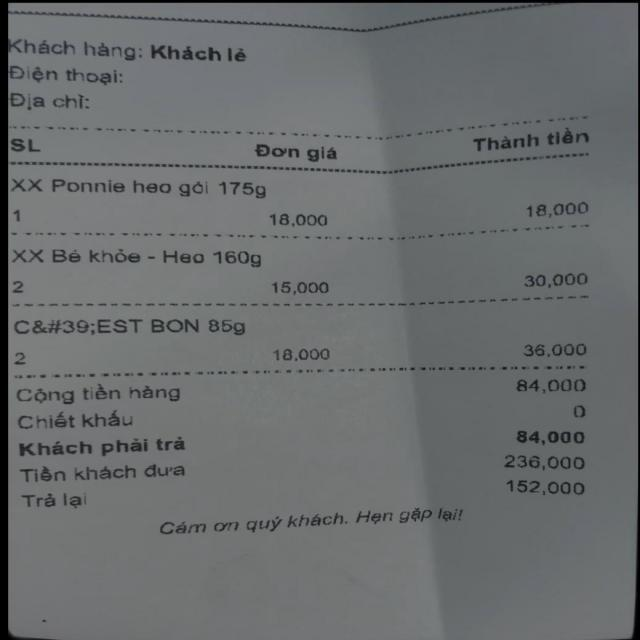amount_number: (511, 376, 588, 396)
label_total: (13, 386, 185, 406)
